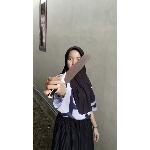Pisau: (48, 55, 96, 99)
